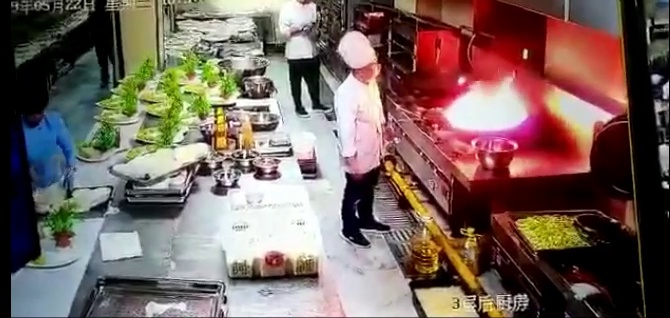fire: (449, 68, 532, 135)
